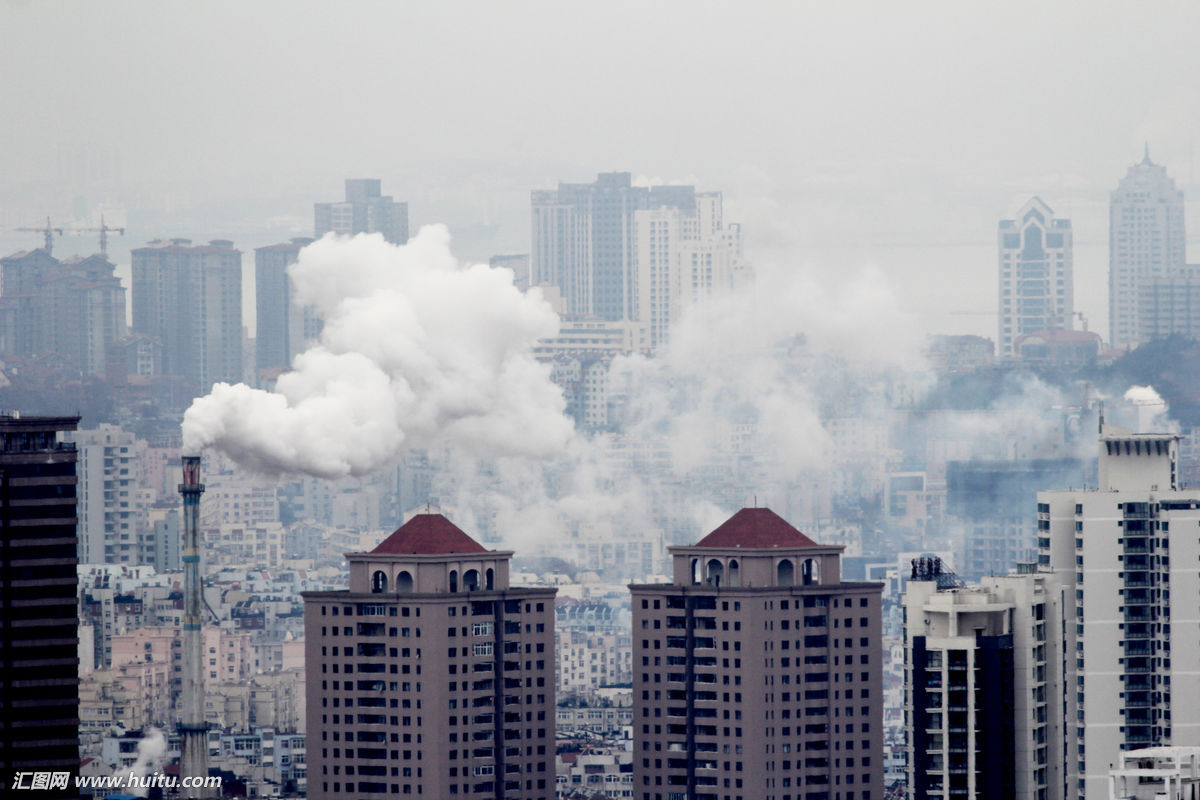dust: (166, 265, 488, 476)
